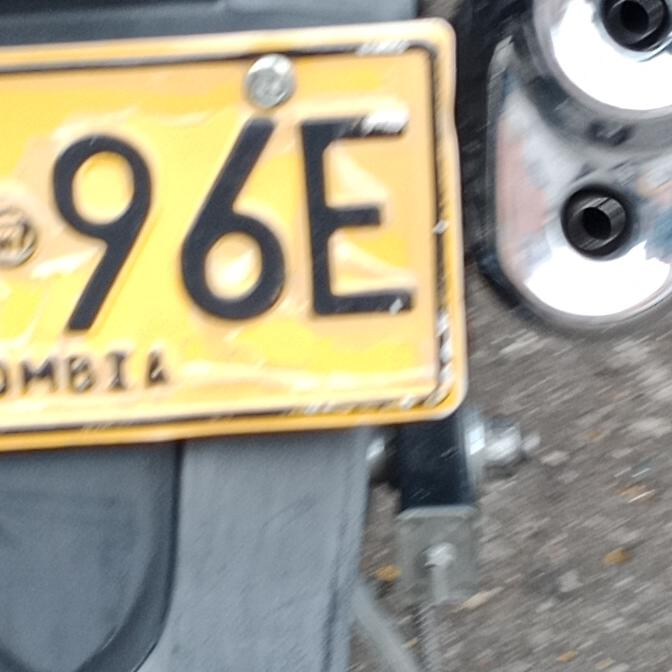plates: (0, 23, 487, 448)
